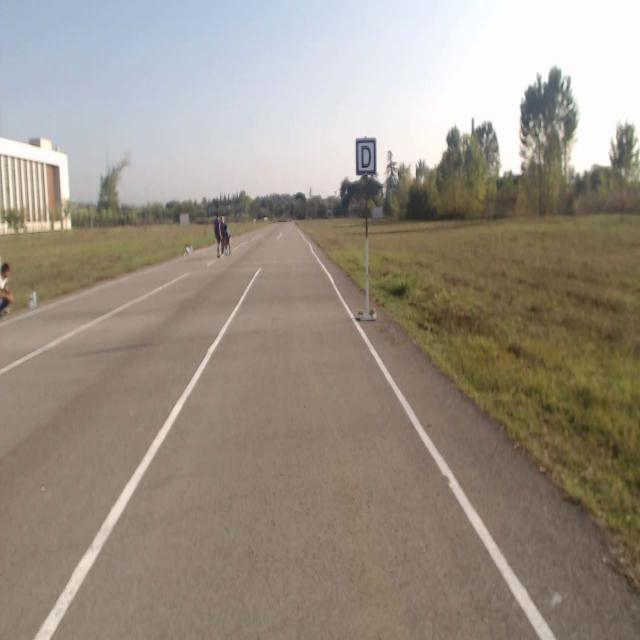durak: (356, 138, 376, 174)
